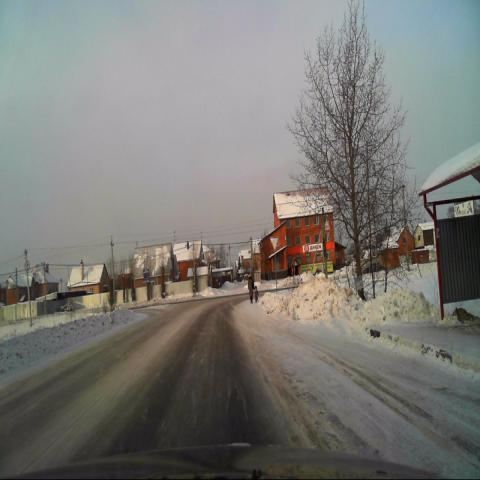2_4: (270, 237, 278, 251)
